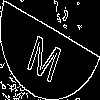M: (25, 25, 66, 85)
